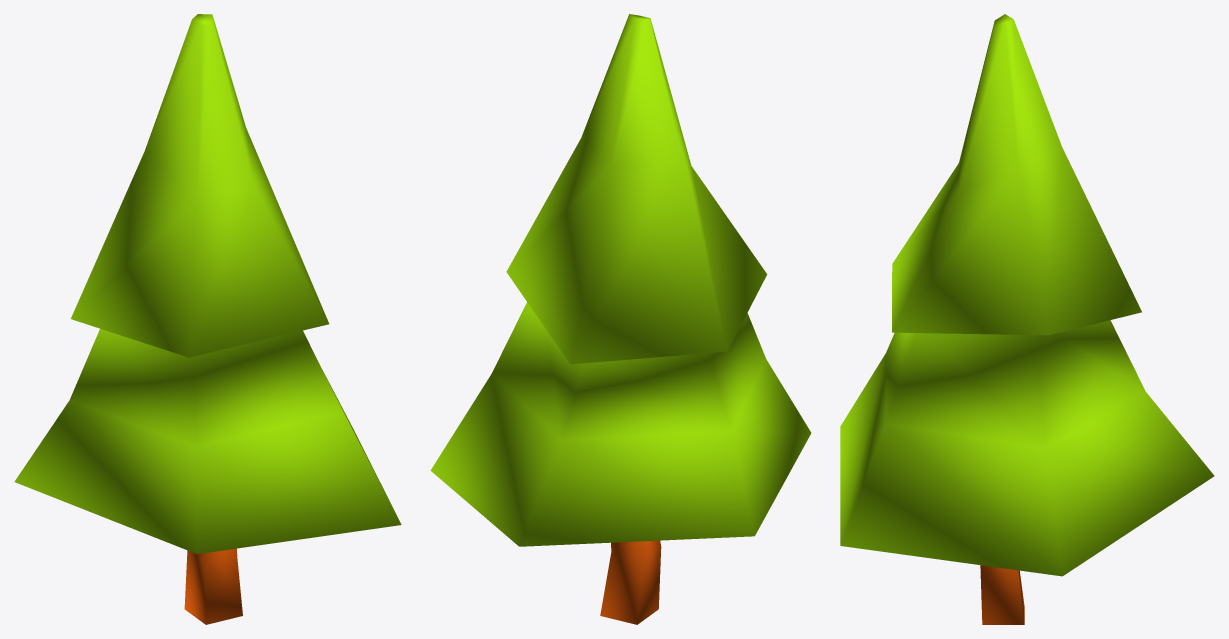
Rendered from pine.glb.
3 views of the same model, side by side, from view 1: azimuth 30°, elevation 25°; view 2: azimuth 150°, elevation 25°; view 3: azimuth 270°, elevation 25° (orthographic).
Parts seen in each view (by area): view 1: Cube; view 2: Cube; view 3: Cube.
Part boxes in pixels (box(x1,y1,x2,y2)): Cube: box(14, 14, 401, 624); Cube: box(430, 14, 811, 624); Cube: box(840, 14, 1214, 624).
Size of the model in its own units: 16.74 by 28.91 by 16.57.
